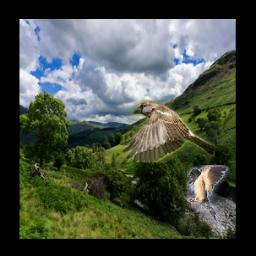Sparrow: (120, 101, 215, 163)
Swallow: (187, 165, 232, 232)
